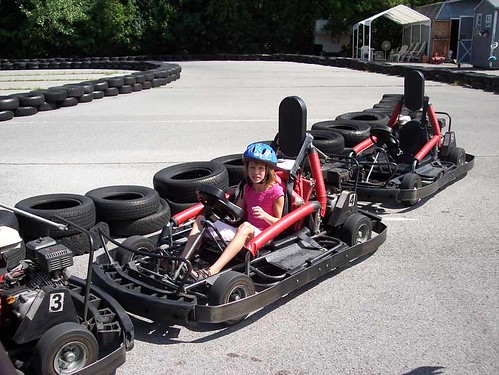helmet: (243, 133, 275, 161)
